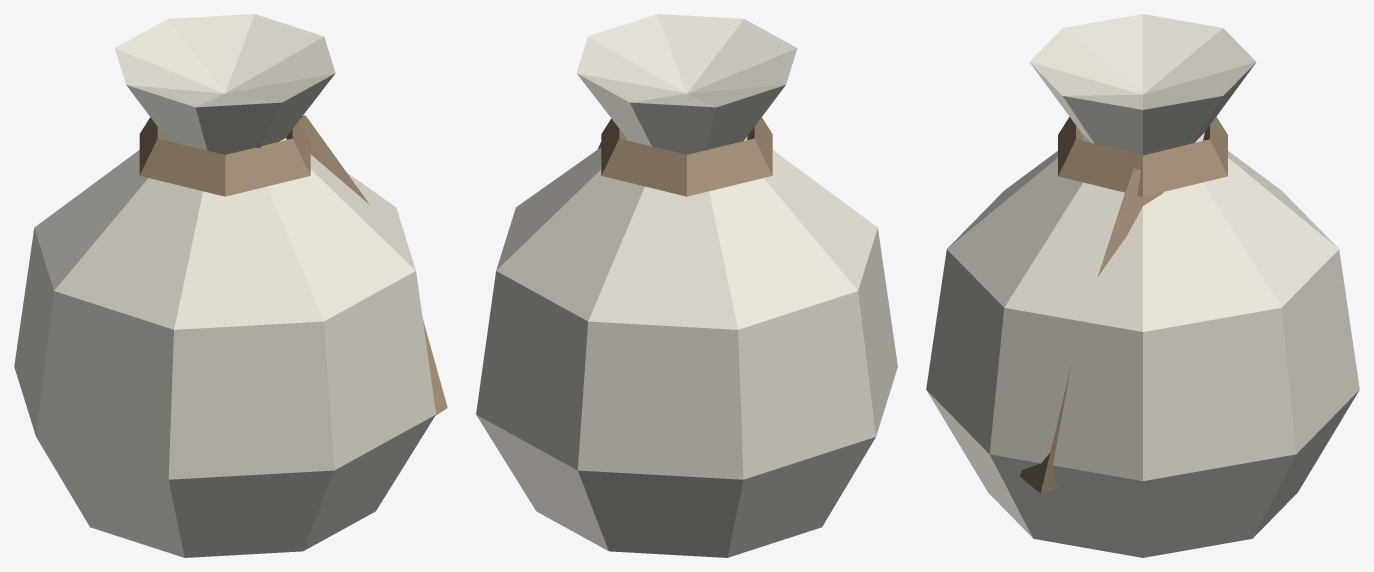
The model's file is prop-pounce-bag.fbx.
3 renders of one model, left to right at view 1: azimuth 30°, elevation 25°; view 2: azimuth 150°, elevation 25°; view 3: azimuth 270°, elevation 25°, orthographic.
Parts seen in each view (by area): view 1: prop-pounce-bag; view 2: prop-pounce-bag; view 3: prop-pounce-bag.
Boxes of the visible parts, x1,y1,x2,y2 form: prop-pounce-bag: (14, 14, 447, 557); prop-pounce-bag: (476, 14, 897, 557); prop-pounce-bag: (926, 14, 1359, 557).
Size of the model in its own units: 8.4 by 9.5 by 8.4.
